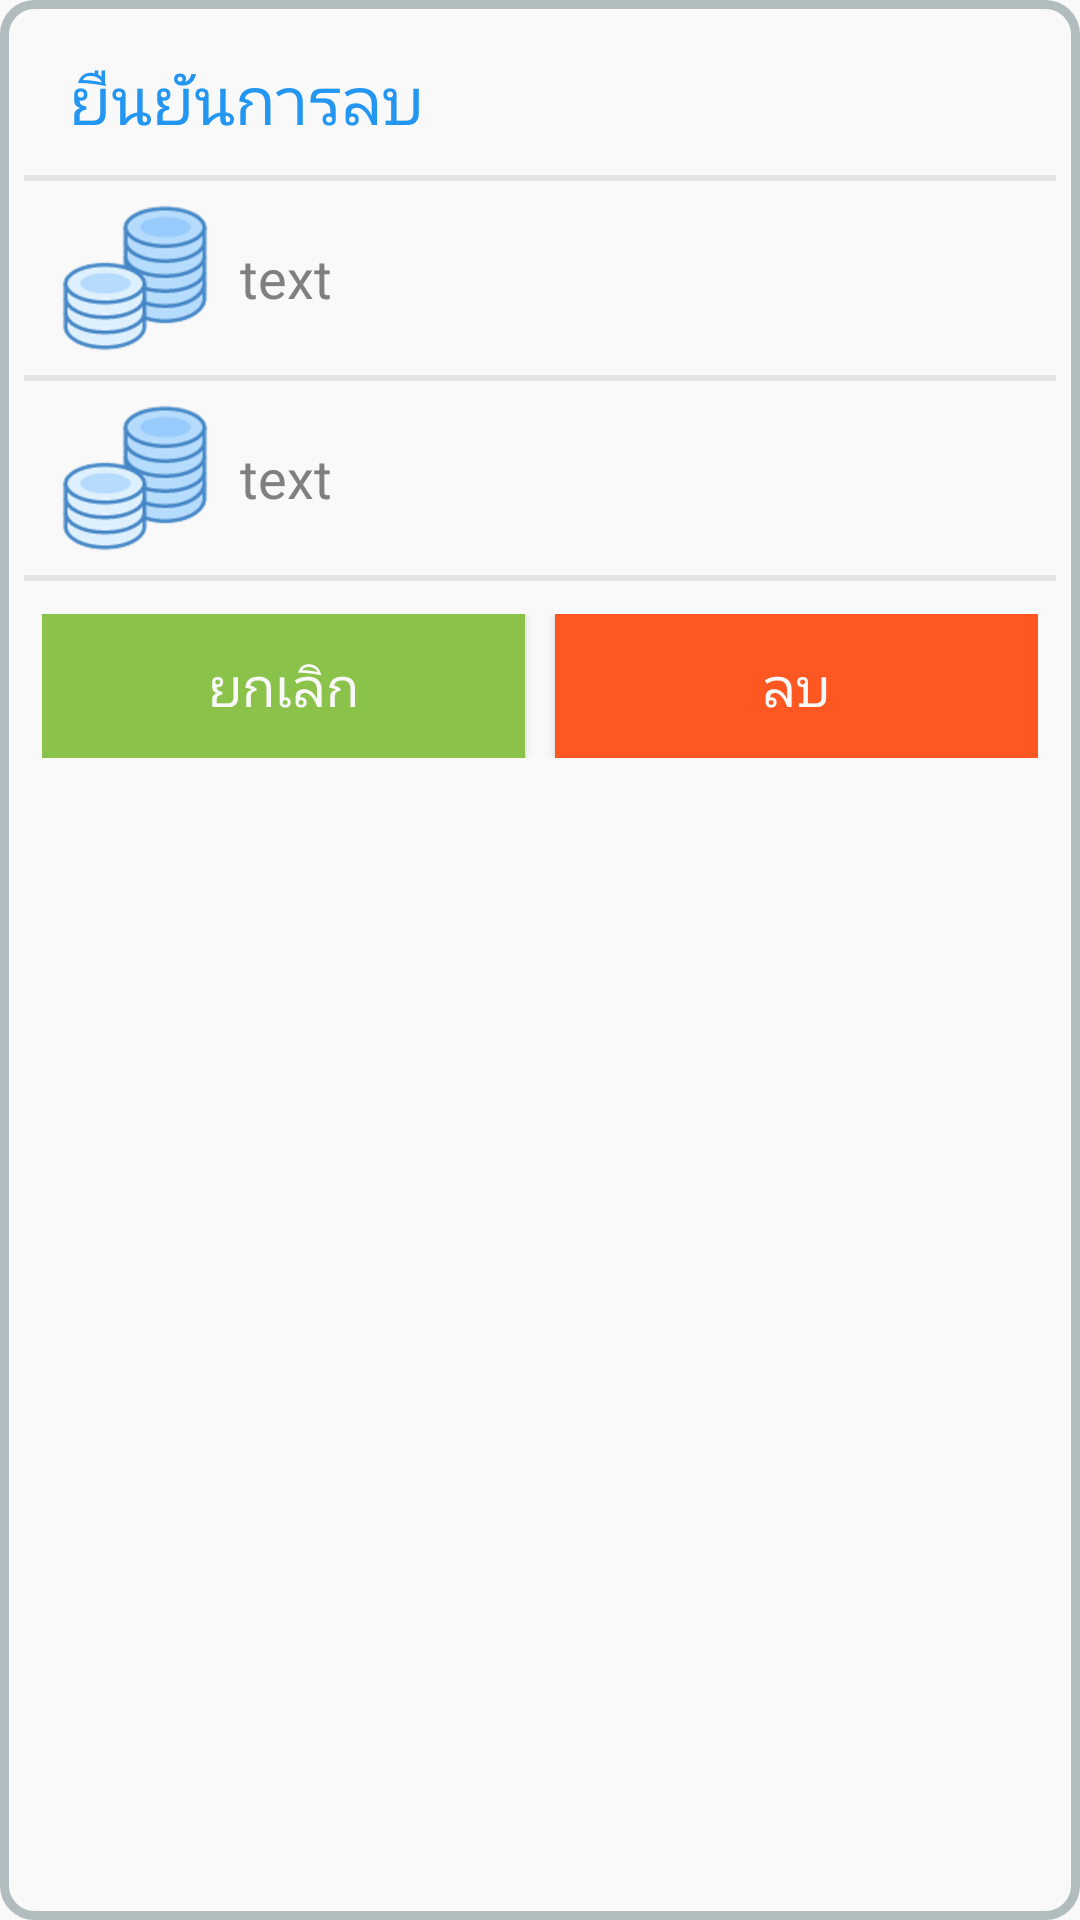

Icon bounding boxes for this 1080×1920 phone screenshot, format (x1,y1,x2,y2):
coins: (63,206,207,350), (63,406,207,550)
